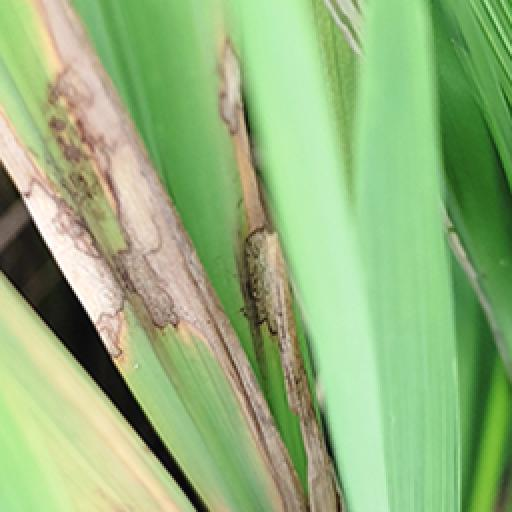Leaf Blast Disease: (0, 0, 238, 400), (238, 228, 348, 508), (198, 28, 282, 228)
